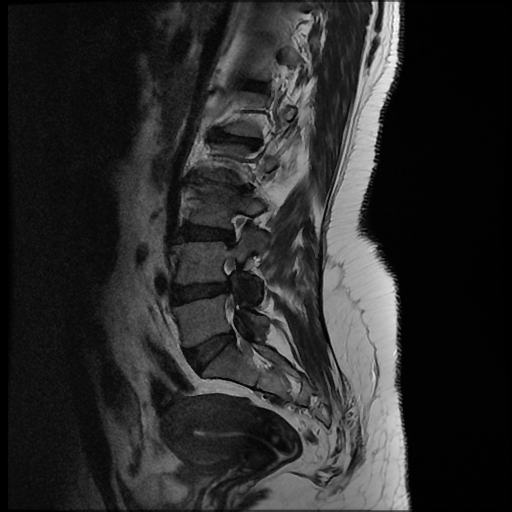RFS0: (213, 203, 261, 256)
